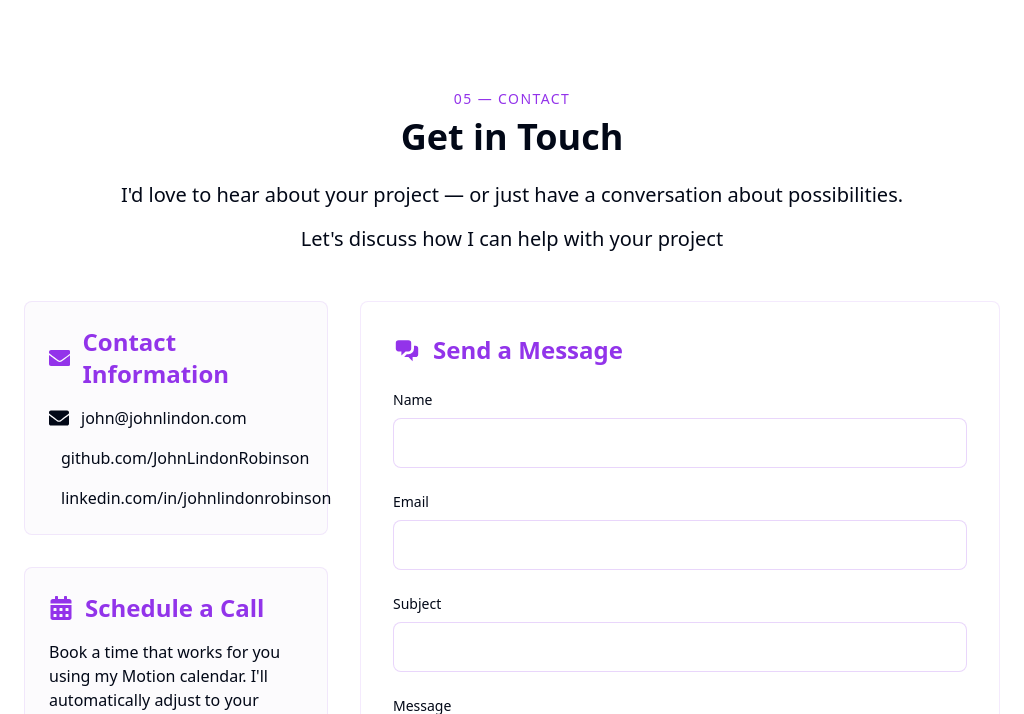
Scenario: Contact Page › handles form submission errors
The image size is (1024, 714).
// Fill out the form
Type "Test User" into the field labelled "Name" at (680, 443), box left=393, top=418, right=967, bottom=468
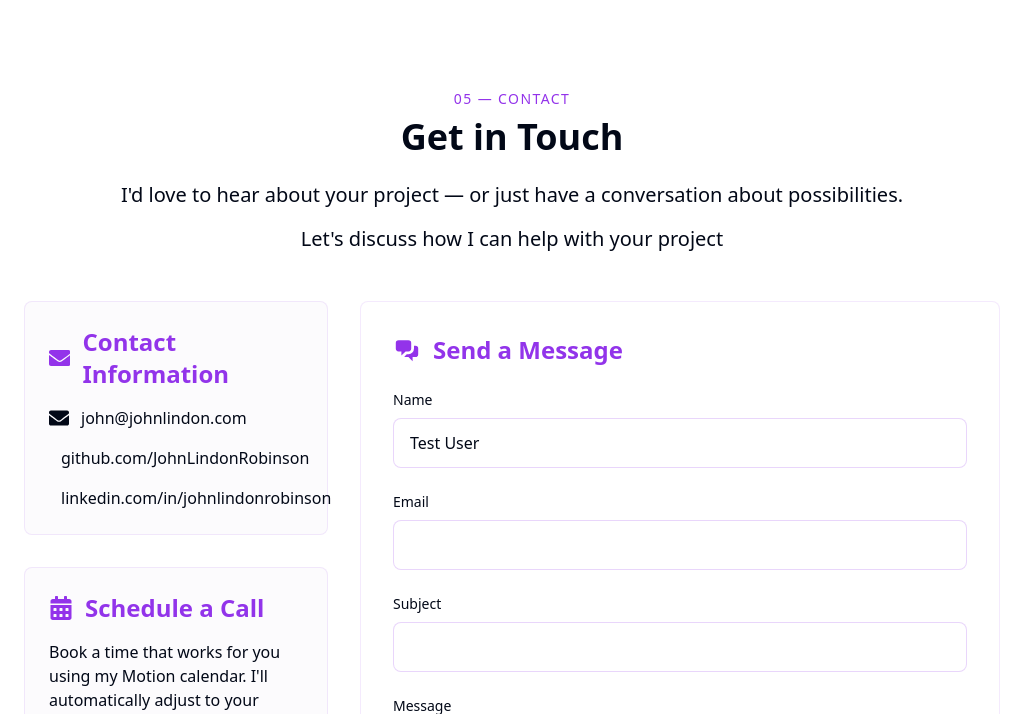
Type "test@example.com" into the field labelled "Email" at (680, 545), box left=393, top=520, right=967, bottom=570
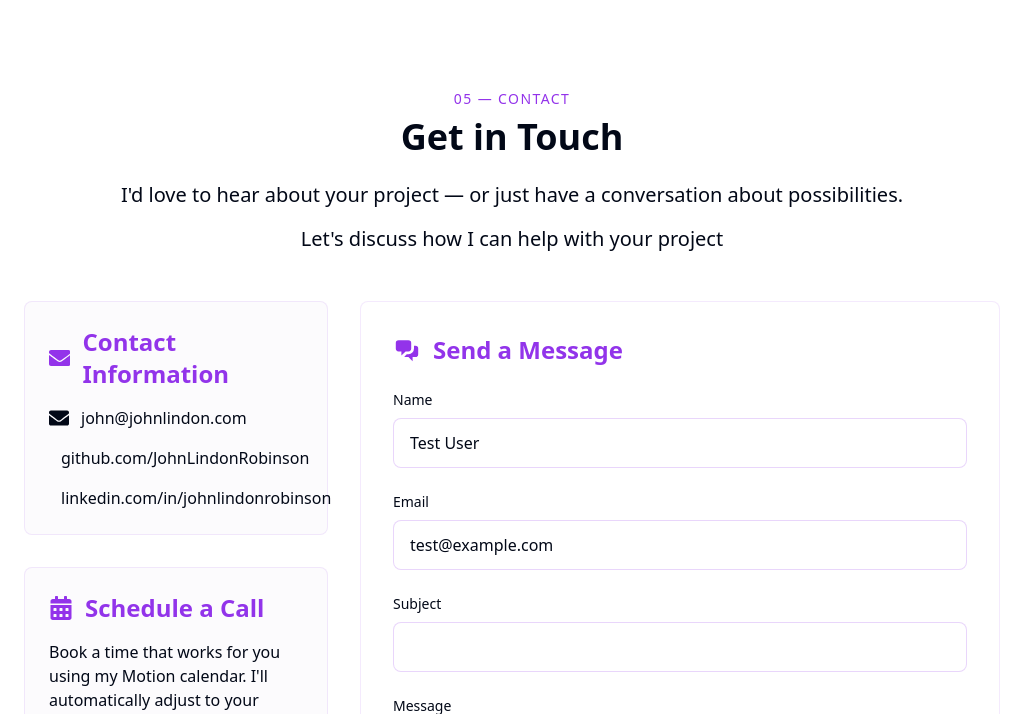
Type "Test Subject" into the field labelled "Subject" at (680, 647), box left=393, top=622, right=967, bottom=672
(page scrolled)
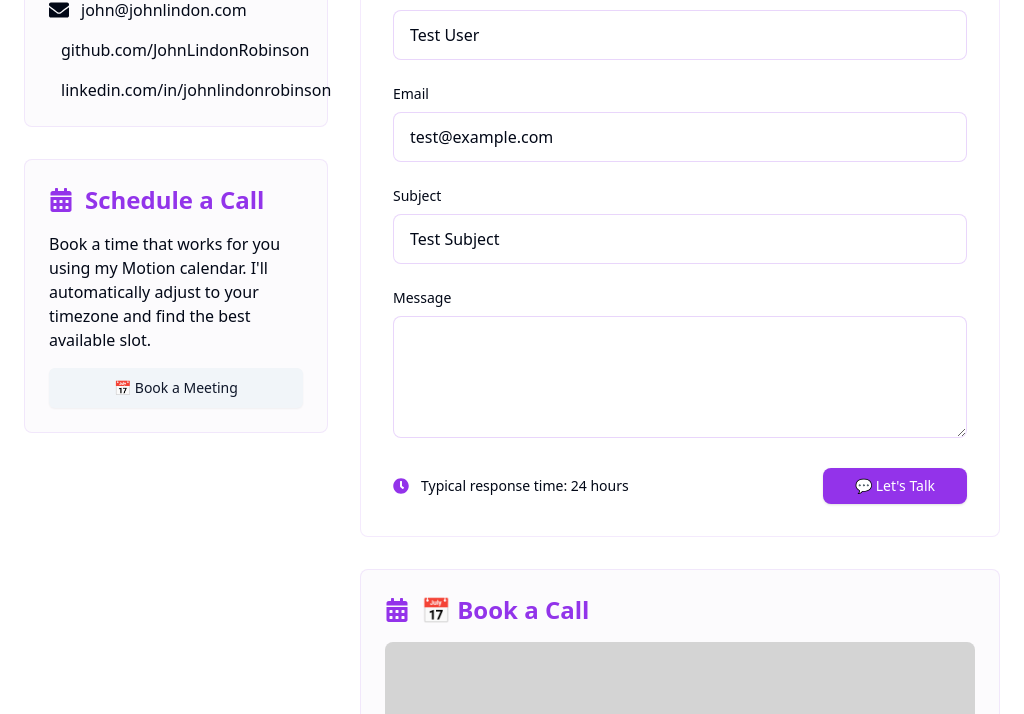
Type "Test Message" into the text box labelled "Message" at (680, 377), box left=393, top=316, right=967, bottom=438
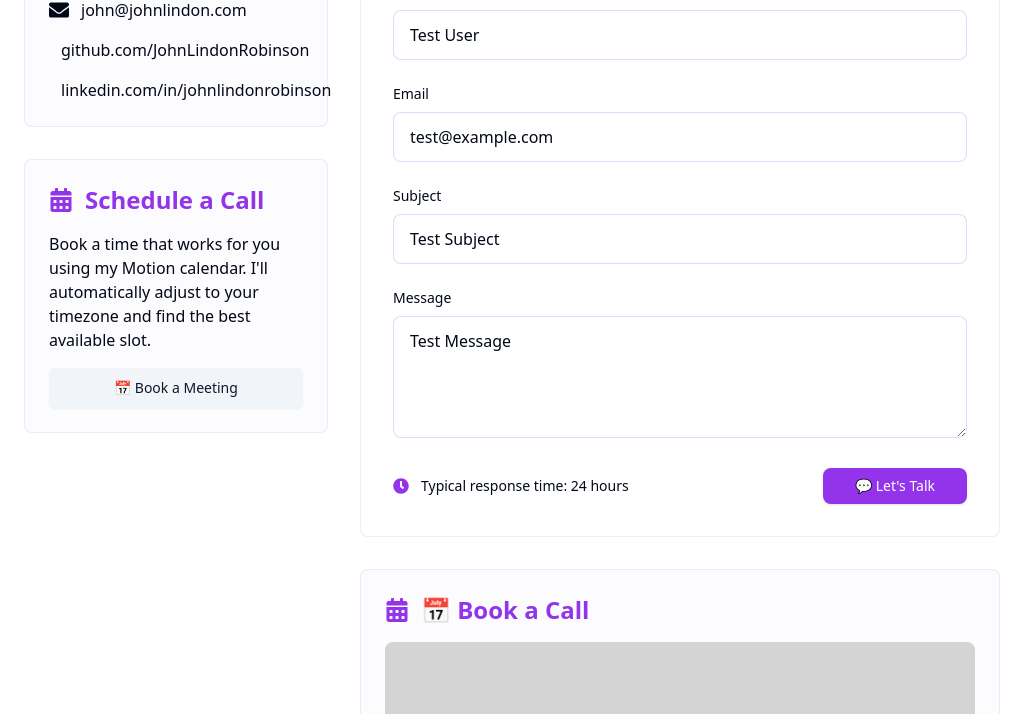
// Submit the form
Click the button "💬 Let's Talk" at (895, 486), box left=823, top=468, right=967, bottom=504
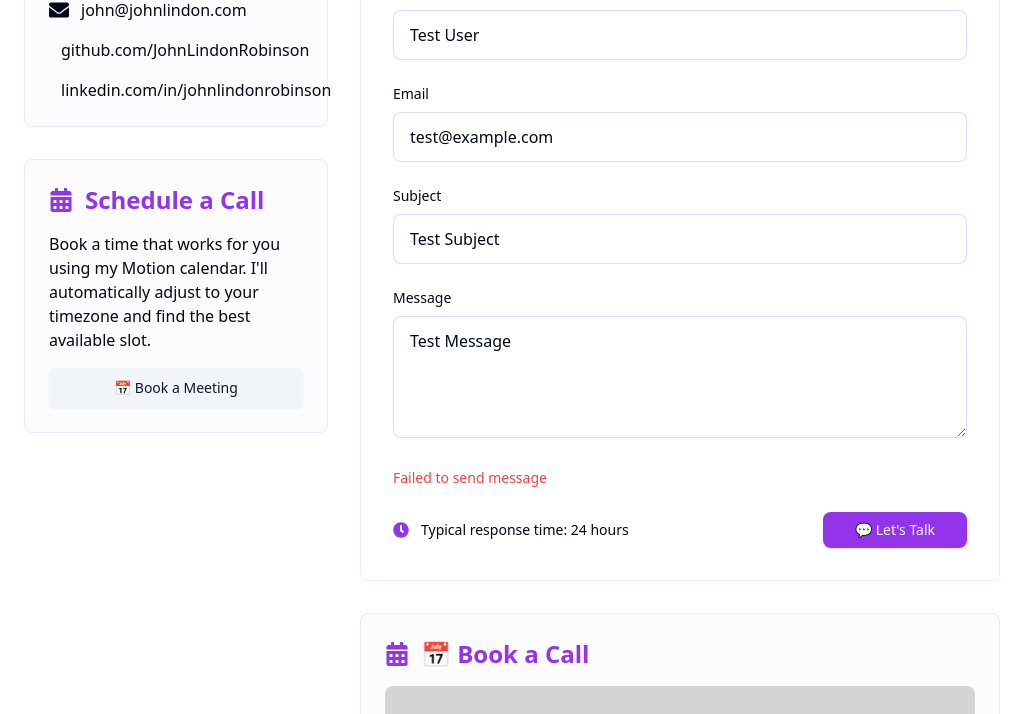
Now the text "Failed to send message" is shown, box left=393, top=468, right=547, bottom=487
